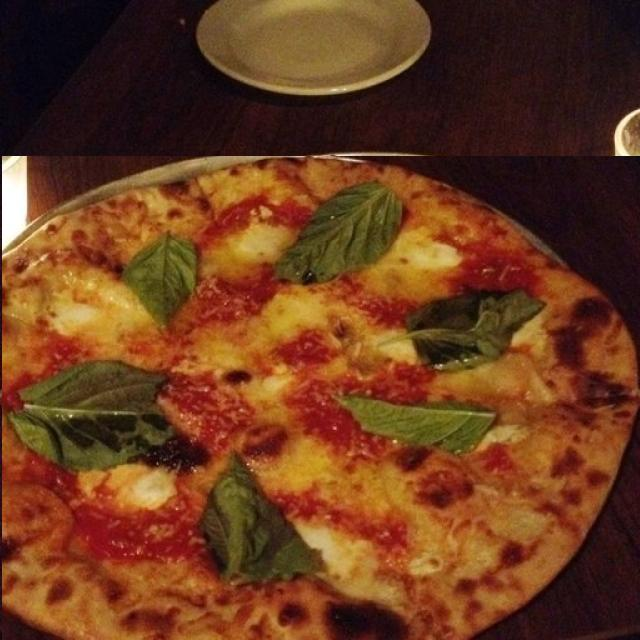basil: (469, 359, 634, 468), (316, 449, 444, 585), (99, 289, 269, 374), (236, 182, 372, 286), (144, 395, 308, 456), (441, 230, 517, 328)
pizza: (2, 156, 640, 640)
